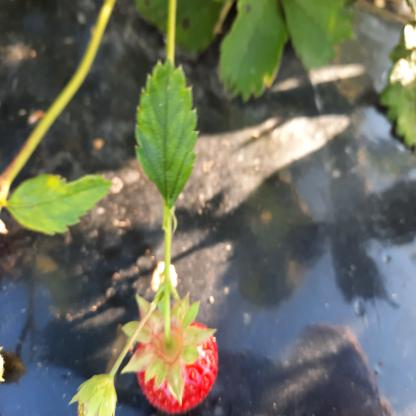ripe: (138, 318, 216, 404)
